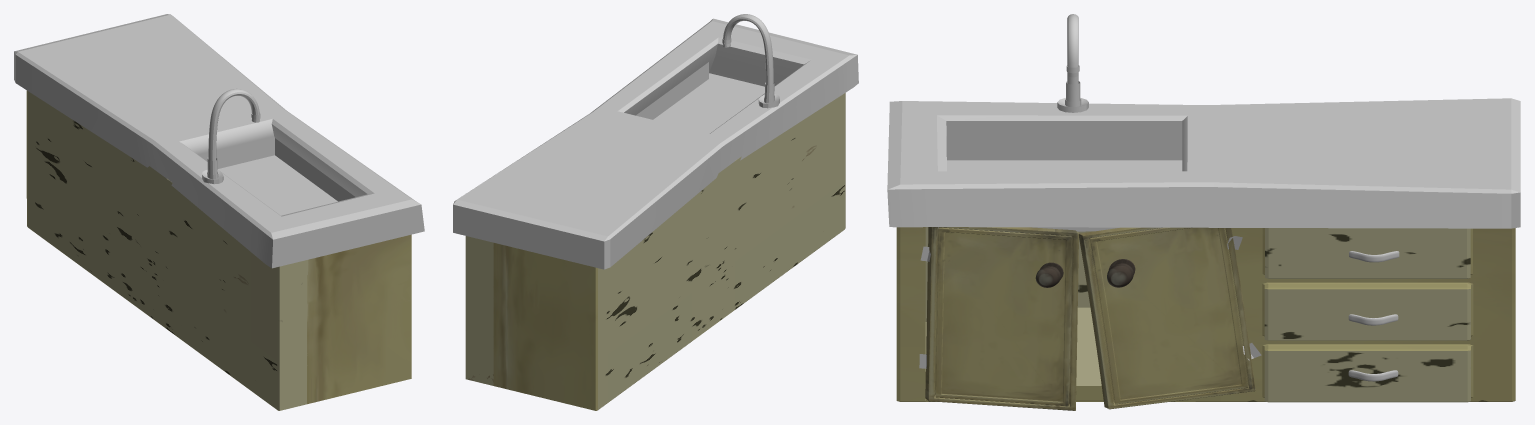
File: Sink.fbx
3 renders of one model, left to right at view 1: azimuth 30°, elevation 25°; view 2: azimuth 150°, elevation 25°; view 3: azimuth 270°, elevation 25°, orthographic. The views are drawn at different scales.
Visible parts, largest first — view 1: counter, counter top, faucet; view 2: counter, counter top, faucet; view 3: counter top, counter, door L, door R, faucet, door knob R.
Part boxes in pixels (x1,y1,x2,y2): counter: (26,90,411,410); counter top: (14,14,424,268); faucet: (202,88,260,184); counter: (465,93,845,410); counter top: (453,18,858,269); faucet: (722,14,779,108); counter top: (887,98,1520,231); counter: (896,227,1515,402); door L: (925,227,1078,410); door R: (1079,227,1255,409); faucet: (1057,14,1088,112); door knob R: (1107,259,1135,287).
Bounding box in the file's own units: 377 × 537 × 953.
